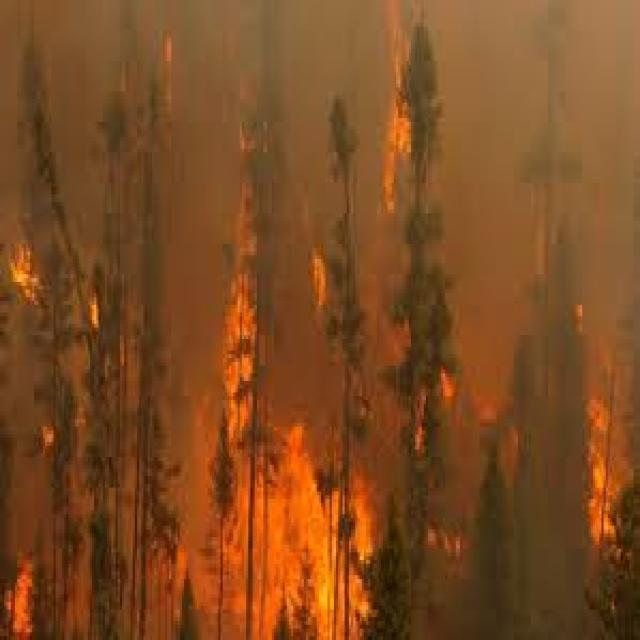Fire: (205, 442, 396, 640), (380, 3, 418, 216), (582, 361, 620, 574), (230, 164, 260, 432), (4, 233, 56, 316), (0, 560, 45, 640), (302, 236, 338, 332), (421, 520, 481, 574), (157, 18, 180, 129), (427, 354, 464, 408), (84, 278, 102, 344), (42, 421, 64, 459), (412, 412, 426, 462)
